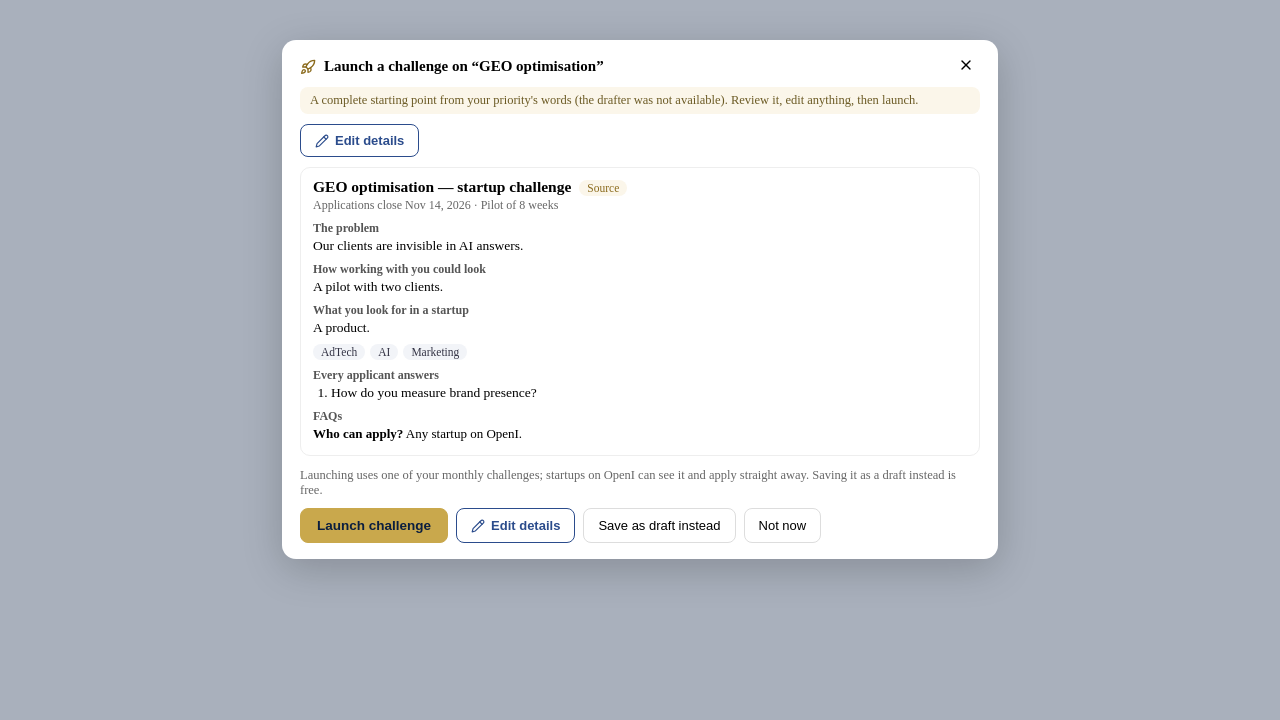
it: LaunchChallengeSheet — the whole challenge, then just Launch › says so when the draft is only a template; shows why a launch was refused (e.g. no challenge left this month)
Expected: the text with test id "launch-drafted-by" shows "complete starting point", x1=310 y1=93 x2=918 y2=107
Click the button with test id "launch-go": coordinates (374, 526) x1=300 y1=508 x2=448 y2=543
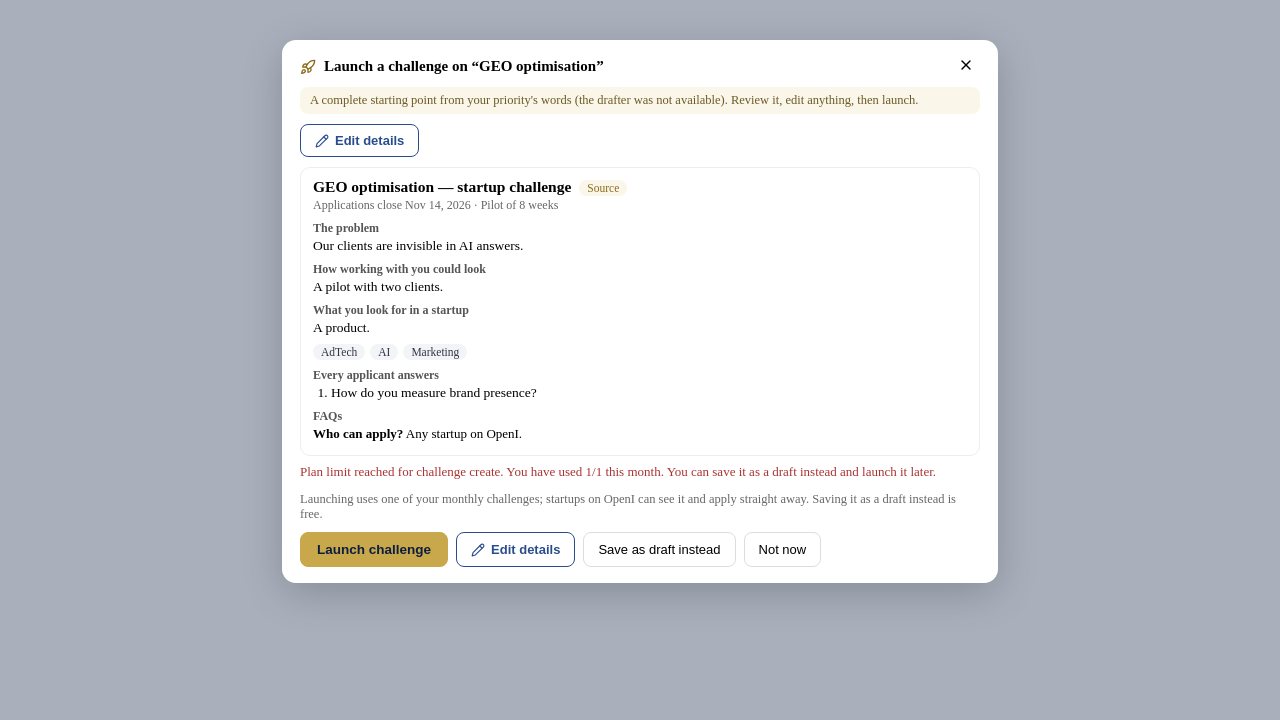
Expected: the message with test id "launch-errors" shows "You can save it as a draft instead", x1=300 y1=464 x2=936 y2=479
